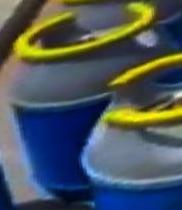cylinder: (1, 0, 182, 210)
